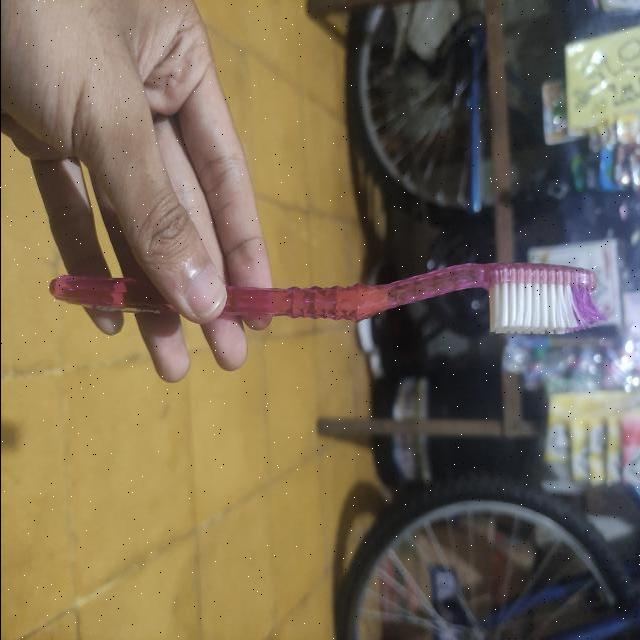toothbrush: (41, 251, 607, 369)
